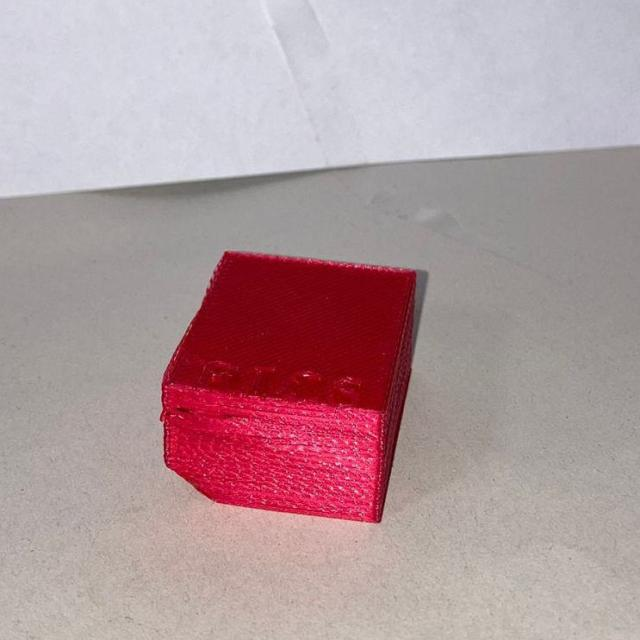Warping: (159, 454, 240, 503)
